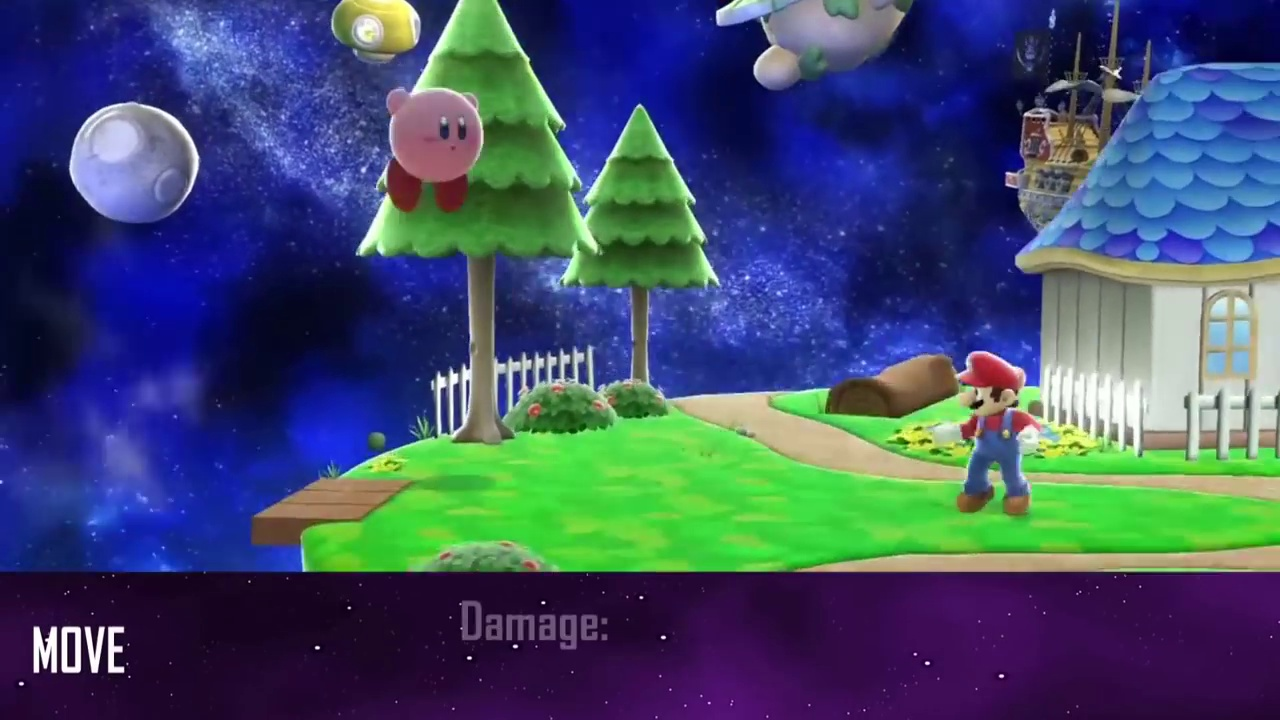Mario: (932, 347, 1040, 517)
